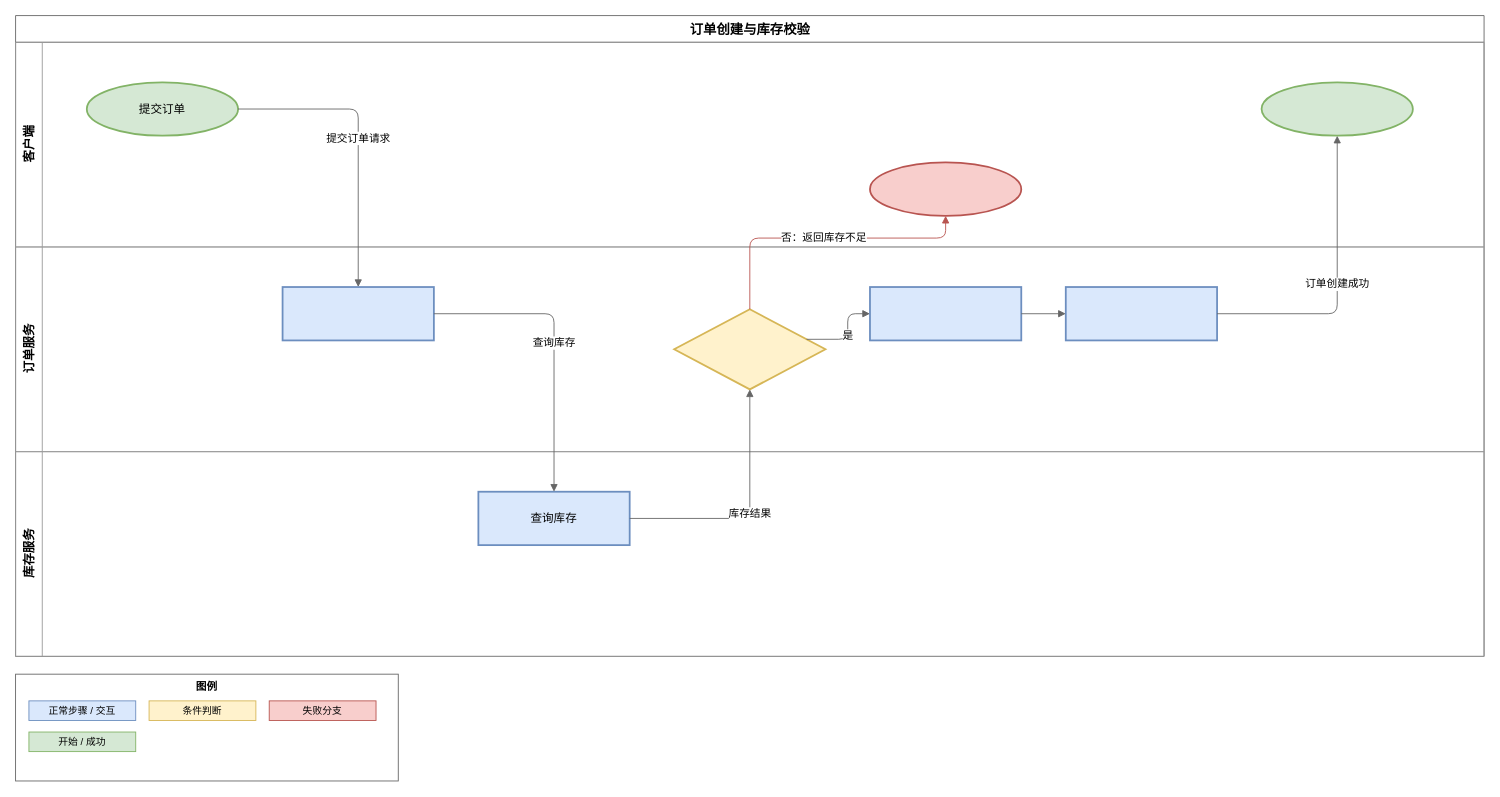
Image size: 1500x797. Some labels were removed from this diagram. Each missing label, with the centre of its shape:
"创建订单" belongs at pixel 945 313.
"展示库存不足" belongs at pixel 945 188.
"展示成功" belongs at pixel 1336 108.
"库存充足？" belongs at pixel 749 349.
"校验订单" belongs at pixel 357 313.
"返回成功" belongs at pixel 1141 313.
